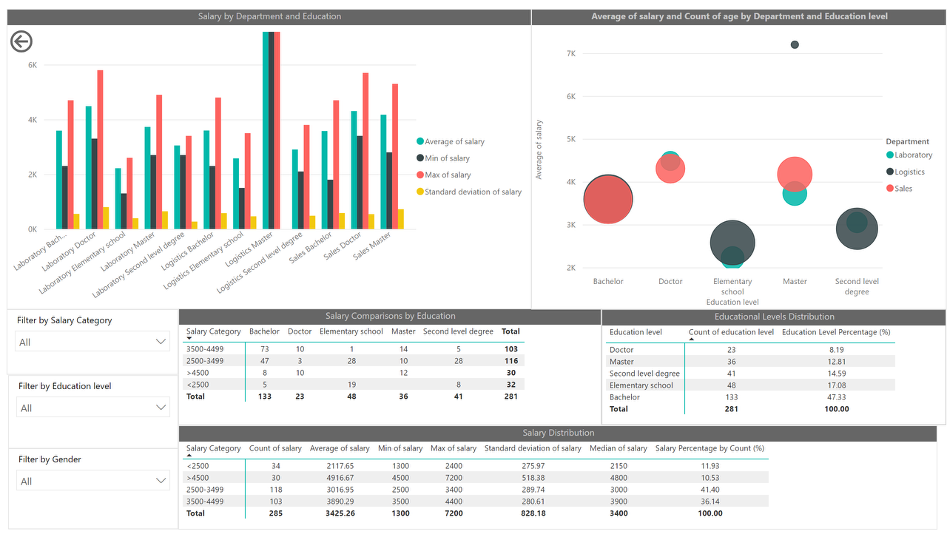

The dashboard page shown, as its layout file describes it:
{"tool":"powerbi","page":{"name":"Salary Distribution","canvas":[1280,720],"ordinal":1},"visuals":[{"type":"clusteredColumnChart","title":"Salary by Department and Education","fields":{"Y":["Avg(Data.salary)","Min(Data.salary)1","Max(Data.salary)2","Sum(Data.salary)3"],"Category":["Data.department","Data.education_level"]},"box":[9,11.6,709.3,406.6],"z":0},{"type":"pivotTable","title":"Salary Distribution","fields":{"Rows":["Data.Salary Category"],"Values":["CountNonNull(Data.salary)3","Avg(Data.salary)","Min(Data.salary)1","Max(Data.salary)2","Sum(Data.salary)4","Median(Data.salary)5","Measures Value.SalaryPercentage"]},"box":[241.2,574.8,1026.1,141],"z":1000},{"type":"pivotTable","title":"Salary Comparisons by Education","fields":{"Rows":["Data.Salary Category"],"Columns":["Data.education_level"],"Values":["CountNonNull(Data.education_level)"]},"box":[241.2,417.3,571.9,157.6],"z":2000},{"type":"actionButton","box":[25.9,42.1,100.4,40.5],"z":3000},{"type":"scatterChart","fields":{"Y":["Avg(Data.salary)"],"X":["Data.education_level"],"Series":["Data.department"],"Size":["CountNonNull(Data.age)"]},"box":[718.2,11.6,561.5,406.6],"z":4000},{"type":"slicer","fields":{"Values":["Data.Salary Category"]},"box":[9,418.2,231.9,88.7],"z":5000},{"type":"slicer","fields":{"Values":["Data.education_level"]},"box":[10.7,506.9,230.1,99.4],"z":6000},{"type":"pivotTable","title":"Educational Levels Distribution","fields":{"Rows":["Data.education_level"],"Values":["CountNonNull(Data.education_level)","Measures Value.EduPercentage"]},"box":[813.1,418.2,465.9,156.6],"z":7000},{"type":"slicer","fields":{"Values":["Data.gender"]},"box":[10.7,606.3,230.1,109.3],"z":8000}]}

Visuals, with their boxes on the page's 1280x720 design canvas (x1, y1, x2, y2). These are canvas units, not pixel positions in the 947x540 screenshot, which may show the page scaled, cropped or inside an application window:
"Salary by Department and Education" clusteredColumnChart: [left=9, top=12, right=718, bottom=418]
"Salary Distribution" pivotTable: [left=241, top=575, right=1267, bottom=716]
"Salary Comparisons by Education" pivotTable: [left=241, top=417, right=813, bottom=575]
actionButton: [left=26, top=42, right=126, bottom=83]
scatterChart - Avg(Data.salary) x Data.education_level: [left=718, top=12, right=1280, bottom=418]
slicer - Data.Salary Category: [left=9, top=418, right=241, bottom=507]
slicer - Data.education_level: [left=11, top=507, right=241, bottom=606]
"Educational Levels Distribution" pivotTable: [left=813, top=418, right=1279, bottom=575]
slicer - Data.gender: [left=11, top=606, right=241, bottom=716]
